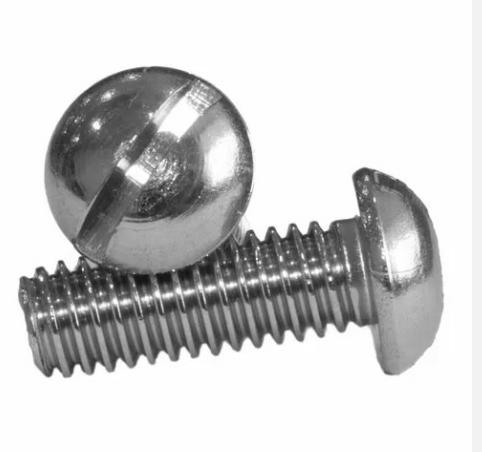slotted: (43, 66, 250, 271)
